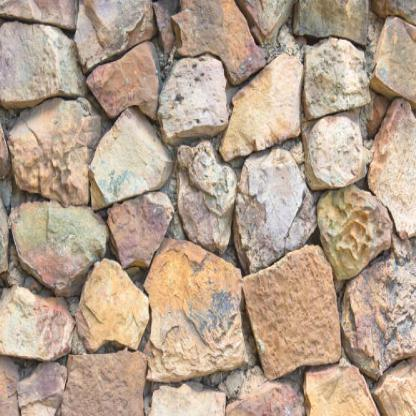Sedimentary_Limestone: (241, 244, 344, 383), (143, 239, 242, 380), (0, 191, 107, 313), (229, 157, 331, 282), (338, 232, 416, 371), (15, 90, 112, 194), (83, 101, 169, 210), (0, 17, 101, 107), (0, 286, 85, 380), (164, 30, 230, 146), (317, 181, 397, 274), (372, 87, 416, 249), (56, 344, 156, 415), (236, 66, 316, 151), (76, 251, 144, 344), (88, 41, 160, 123), (72, 0, 159, 66), (305, 40, 374, 116), (310, 118, 373, 192), (299, 0, 379, 56), (372, 12, 416, 102)
